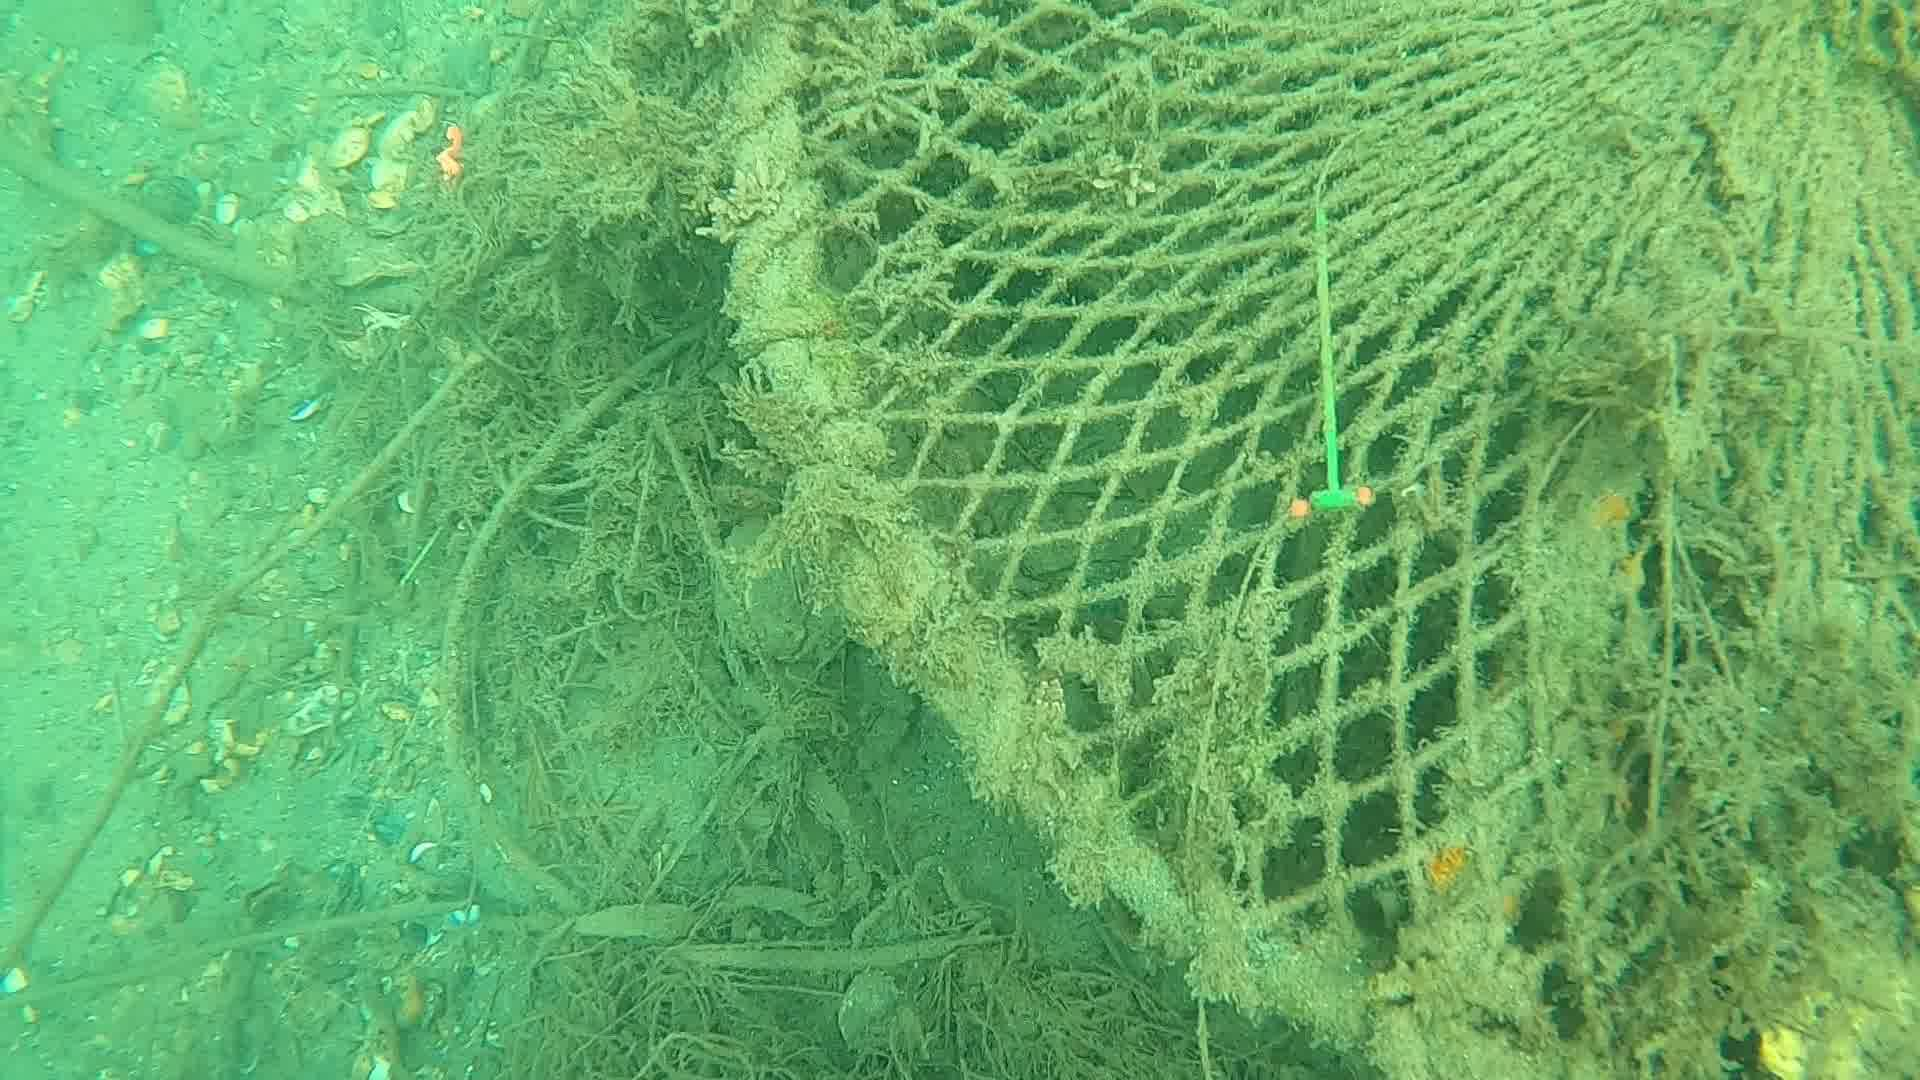circular fish trap: (727, 0, 1920, 1080)
